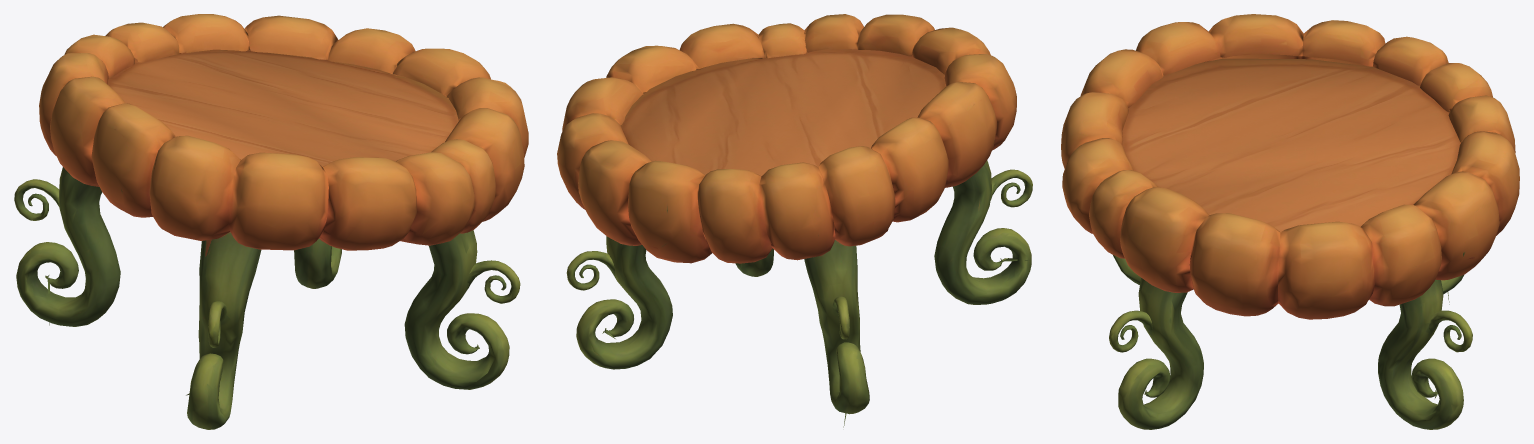
File: S1_PumpkinTable_LOD1.fbx
The picture shows the model from 3 angles, left to right: view 1: azimuth 30°, elevation 25°; view 2: azimuth 150°, elevation 25°; view 3: azimuth 270°, elevation 25°; orthographic projection. The views are drawn at different scales.
Visible parts, largest first — view 1: S1_PumpkinTable_LOD1; view 2: S1_PumpkinTable_LOD1; view 3: S1_PumpkinTable_LOD1.
Part boxes in pixels (box(x1,y1,x2,y2)): S1_PumpkinTable_LOD1: box(14, 14, 528, 429); S1_PumpkinTable_LOD1: box(557, 14, 1032, 427); S1_PumpkinTable_LOD1: box(1061, 14, 1519, 429).
Bounding box in the file's own units: 1.06 × 0.739 × 1.09.
1 material, 1 textured.
